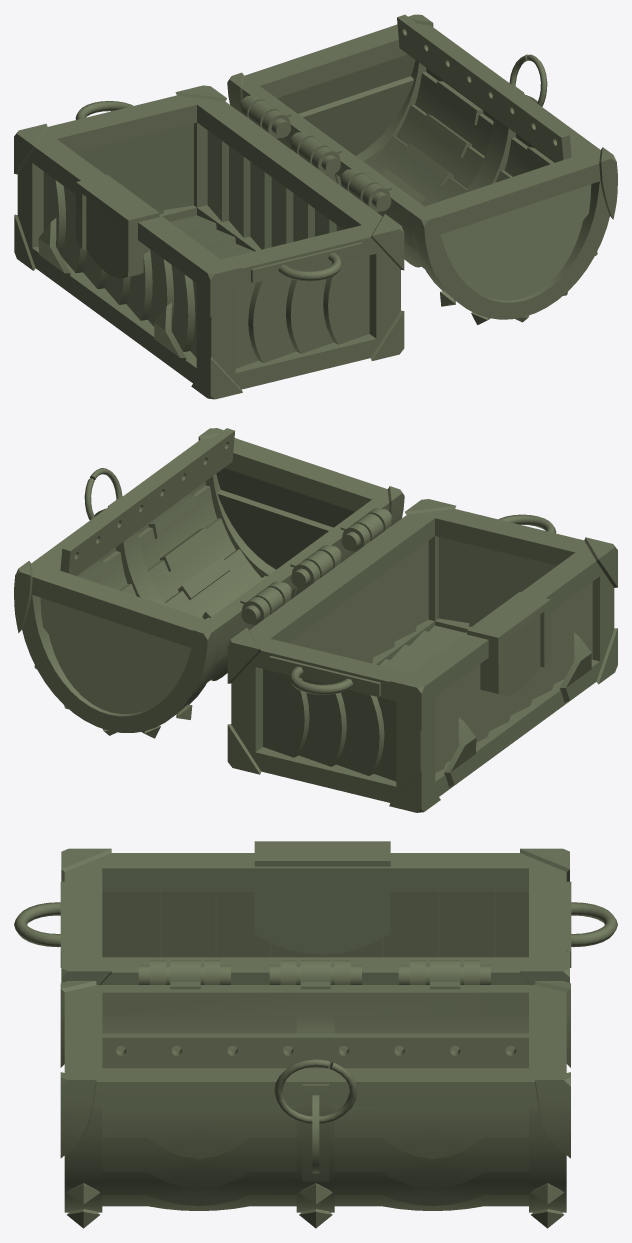
File: Armored_chest.FBX
3 renders of one model, top to bottom at view 1: azimuth 30°, elevation 25°; view 2: azimuth 150°, elevation 25°; view 3: azimuth 270°, elevation 25°, orthographic. The views are drawn at different scales.
Parts seen in each view (by area): view 1: Armored_chest_open_version_2; view 2: Armored_chest_open_version_2; view 3: Armored_chest_open_version_2.
Part boxes in pixels (x1,y1,x2,y2): Armored_chest_open_version_2: (14,14,617,399); Armored_chest_open_version_2: (14,428,617,812); Armored_chest_open_version_2: (14,841,617,1228).
Bounding box in the file's own units: 234 × 214 × 88.8.
